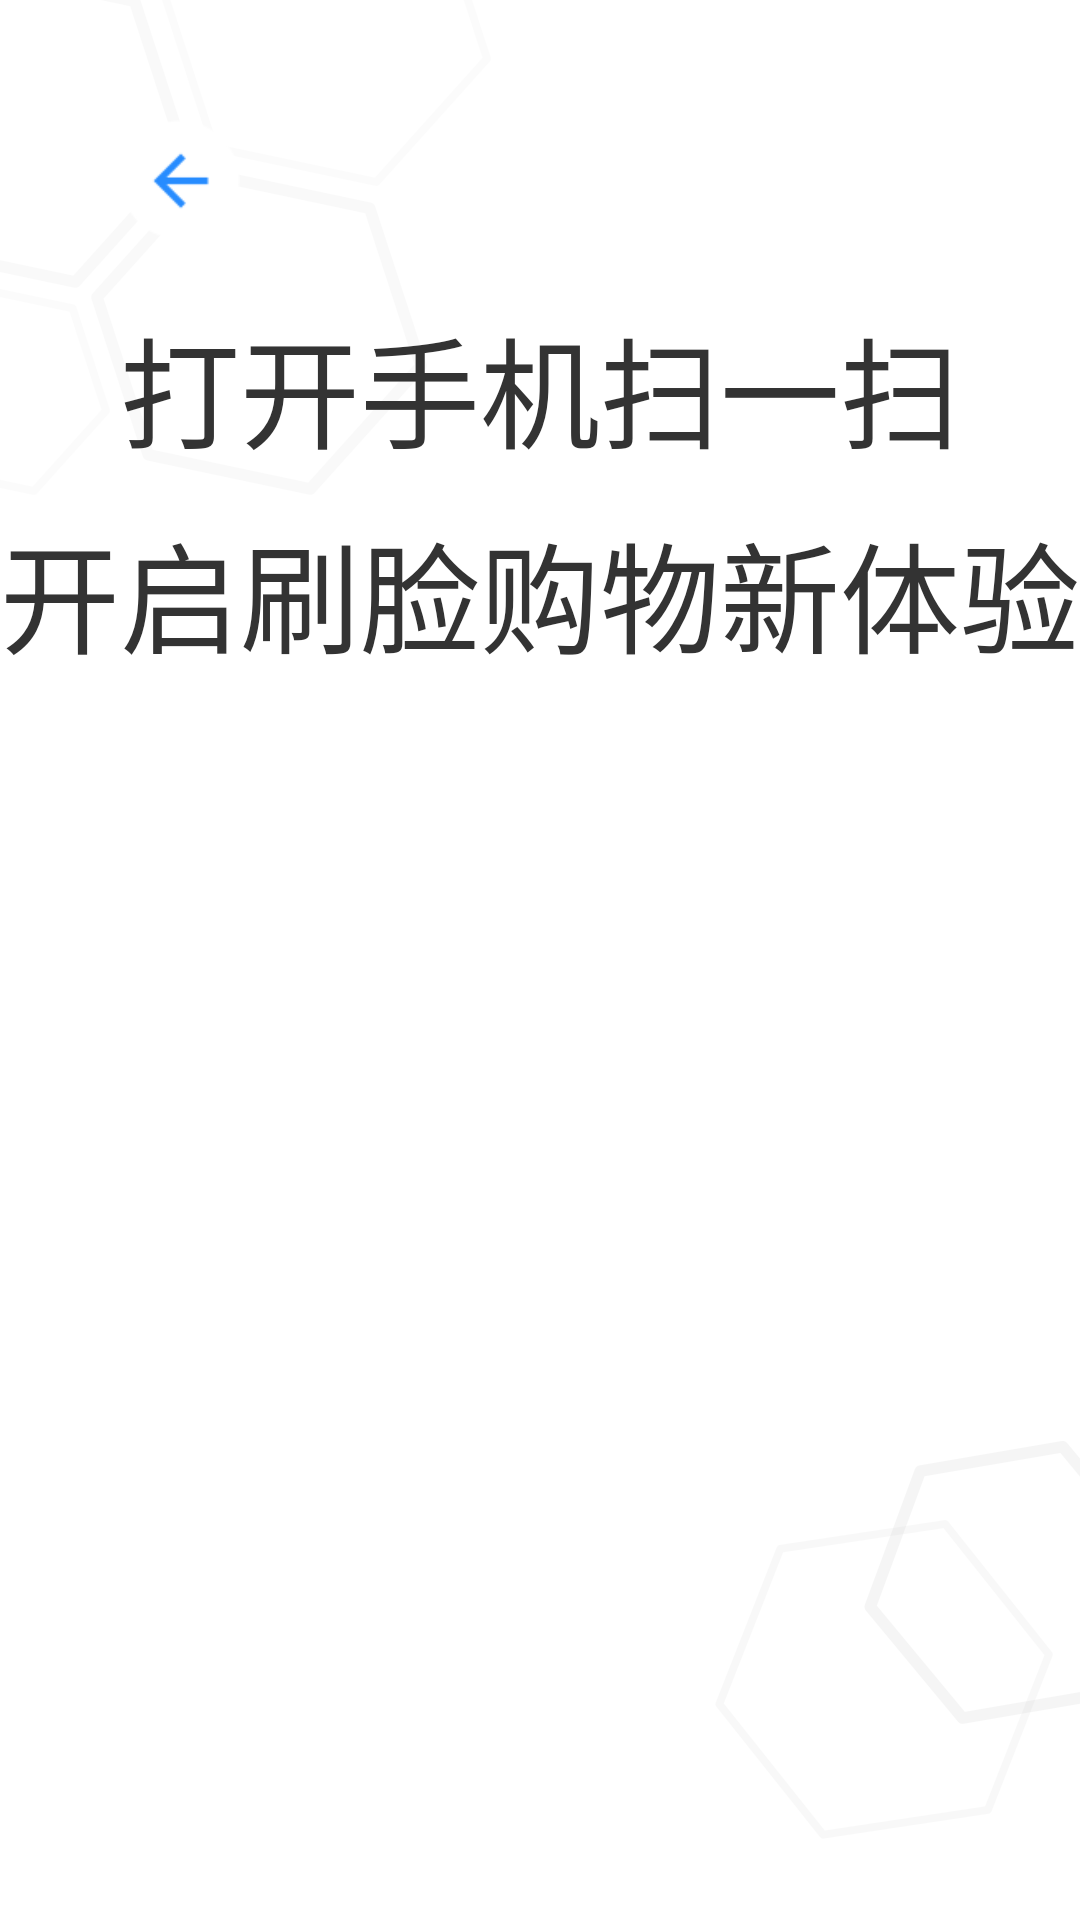

Locate icon controls on the screen. Image size 1080px x 1920px, boxes as (x1, y1, x2, y2).
back: (154, 154, 209, 208)
